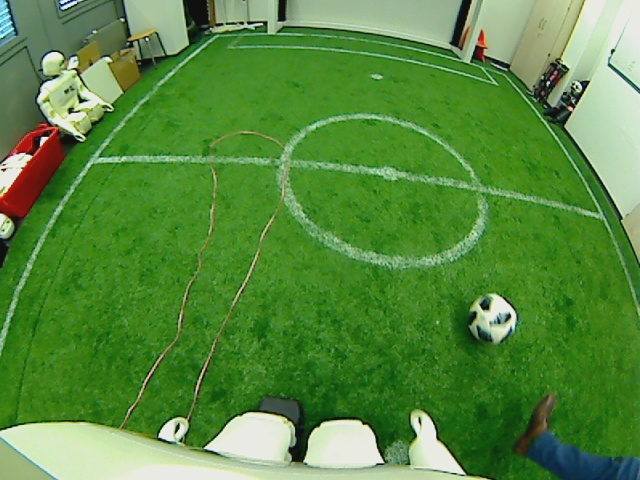ball: (464, 293, 519, 343)
